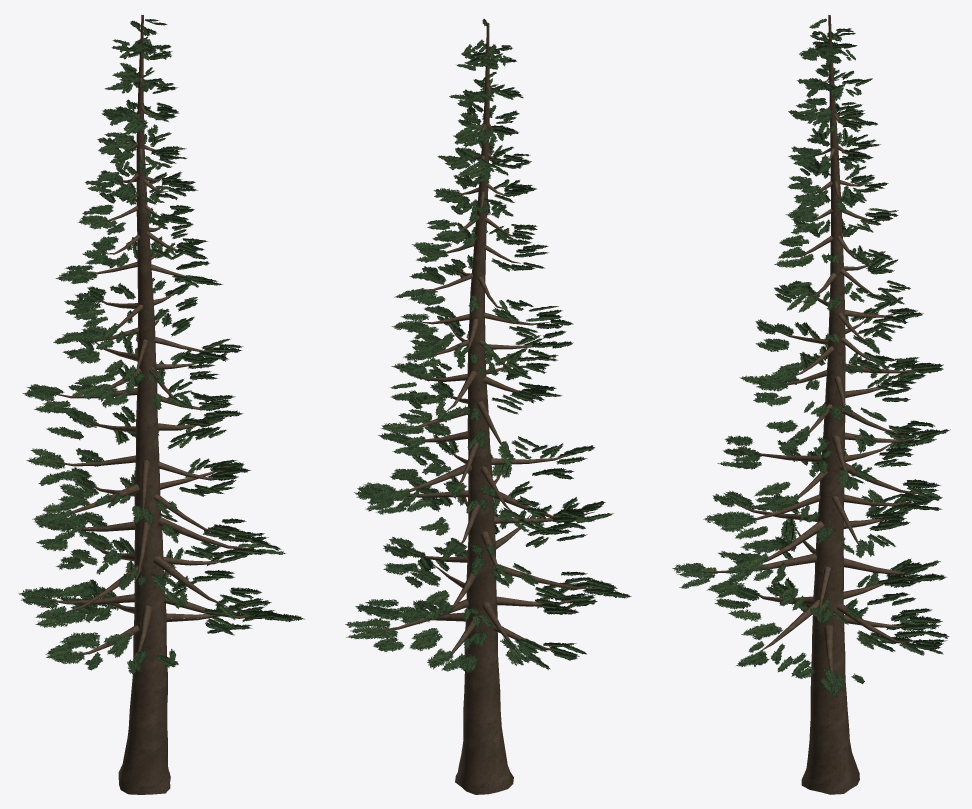
File: pine_tree_001_v2_a_LOD2.gltf
The picture shows the model from 3 angles, left to right: view 1: azimuth 30°, elevation 25°; view 2: azimuth 150°, elevation 25°; view 3: azimuth 270°, elevation 25°; orthographic projection.
Visible parts, largest first — view 1: PineTree001_A; view 2: PineTree001_A; view 3: PineTree001_A.
Part boxes in pixels (x1,y1,x2,y2): PineTree001_A: (18,15,304,794); PineTree001_A: (345,19,631,794); PineTree001_A: (672,15,950,794).
Size of the model in its own units: 8.13 by 22.59 by 7.69.
Materials: 2 (2 with a texture image).
